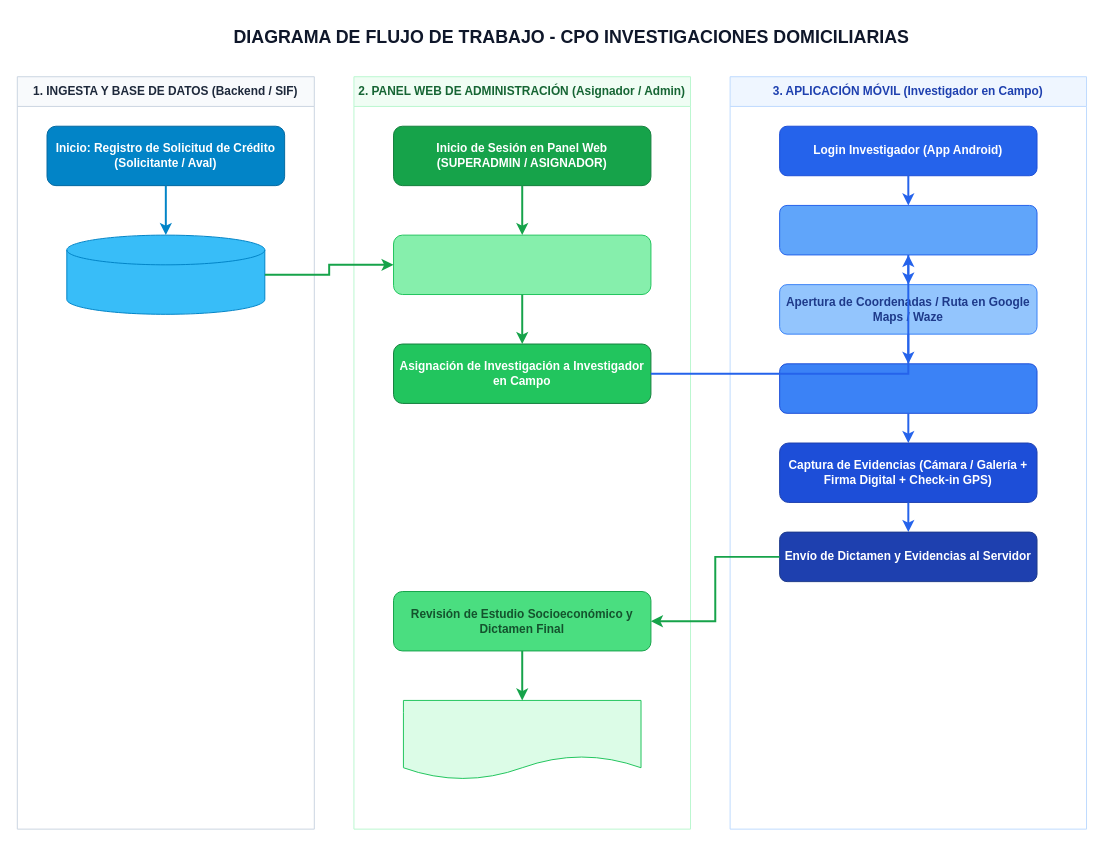
This 1104x846 diagram has some shape labels left out. The centre of each missing label's shape, as x and y in pixels:
"Almacenamiento en DB PostgreSQL (Estado: PENDIENTE)" belongs at point (165, 274).
"Carga de Lista de Visitas Asignadas del Día" belongs at point (908, 229).
"Consulta de Dashboard y Mapa Mapbox GPS en Tiempo Real" belongs at point (522, 264).
"Impresión / PDF de Reporte Socioeconómico Oficial" belongs at point (521, 739).
"Llenado del Formato Socio-Económico Digital" belongs at point (908, 388).
